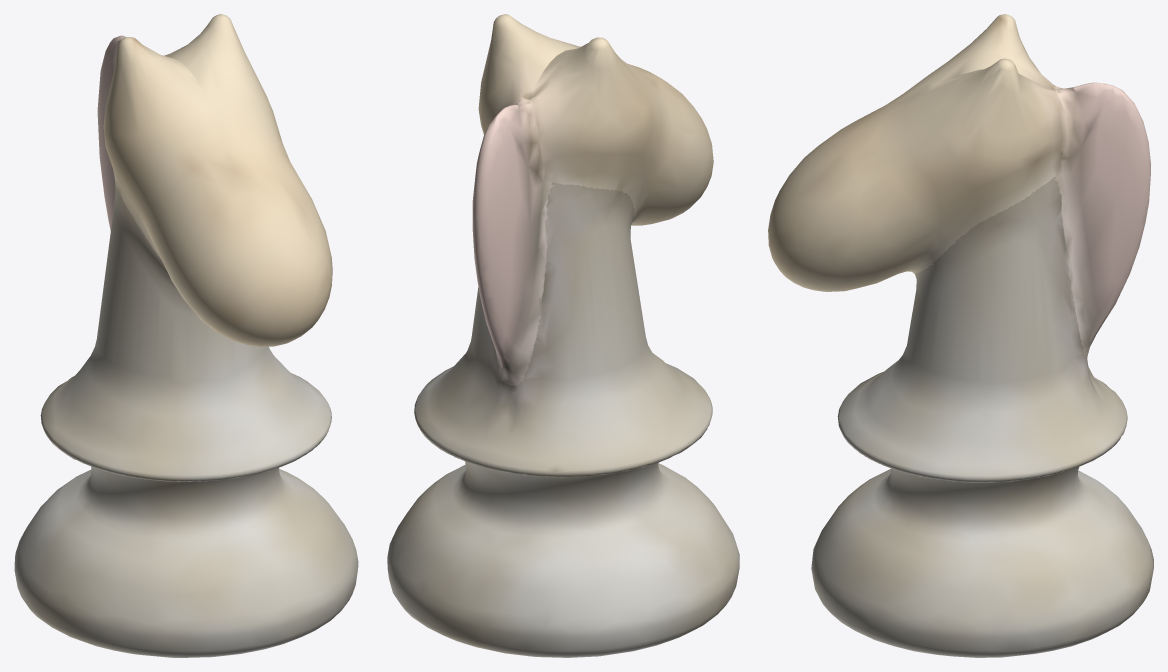
Rendered from knight-light.glb.
3 views of the same model, side by side, from view 1: azimuth 30°, elevation 25°; view 2: azimuth 150°, elevation 25°; view 3: azimuth 270°, elevation 25° (orthographic). The views are drawn at different scales.
Parts seen in each view (by area): view 1: body; view 2: body; view 3: body.
Part boxes in pixels (x1,y1,x2,y2): body: [14, 14, 358, 657]; body: [387, 14, 739, 657]; body: [768, 14, 1153, 657].
Size of the model in its own units: 2.16 by 3.88 by 2.43.
